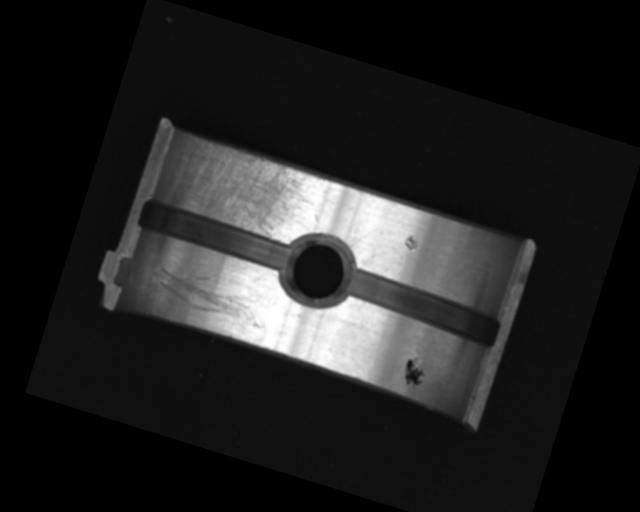blot: (399, 354, 431, 391)
bruise: (401, 231, 422, 253)
gap: (338, 265, 506, 347), (134, 195, 297, 276)
hole: (272, 227, 363, 317)
nick: (151, 261, 273, 332), (348, 221, 378, 254)
scratch: (157, 129, 334, 252)
